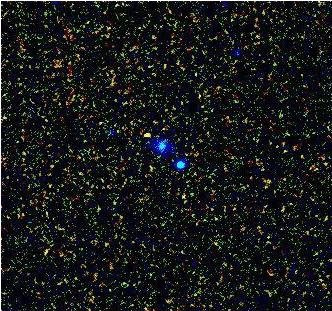star: (129, 120, 159, 150)
